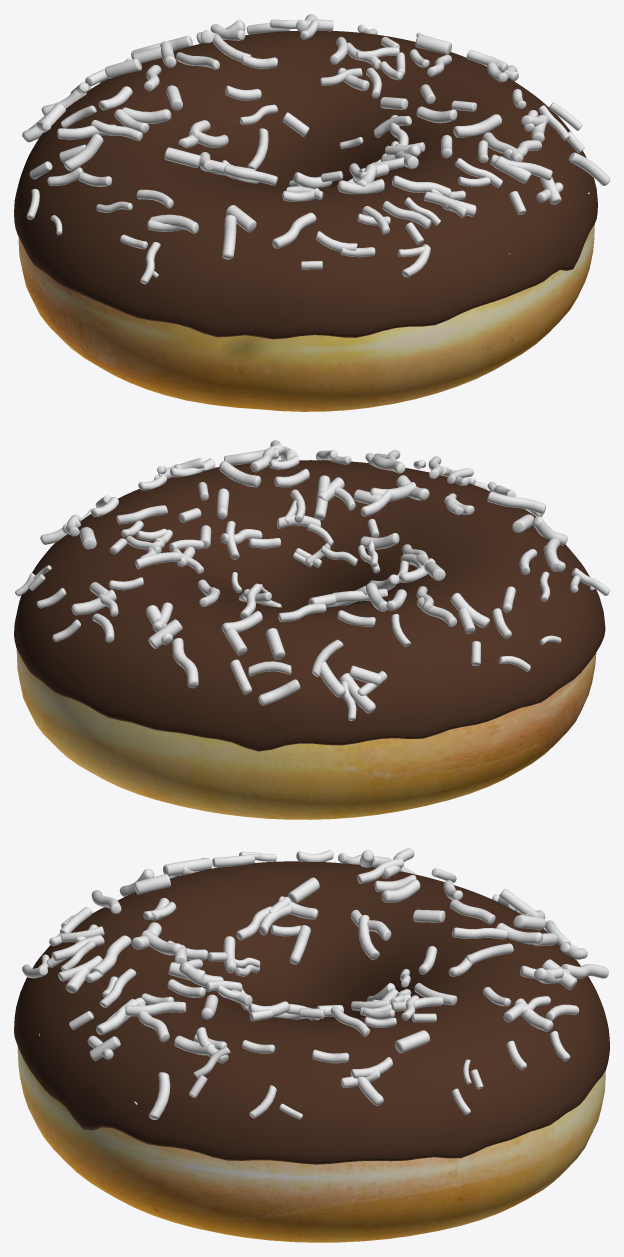
File: dark white vermicheli.glb
The picture shows the model from 3 angles, top to bottom: view 1: azimuth 30°, elevation 25°; view 2: azimuth 150°, elevation 25°; view 3: azimuth 270°, elevation 25°; orthographic projection. The views are drawn at different scales.
Parts seen in each view (by area): view 1: dark, Ver white, Torus; view 2: dark, Torus, Ver white; view 3: dark, Torus, Ver white.
Boxes of the visible parts, <box> form: dark: <box>14,31,597,339</box>; Ver white: <box>22,14,609,284</box>; Torus: <box>18,224,594,411</box>; dark: <box>14,460,605,751</box>; Torus: <box>16,649,596,819</box>; Ver white: <box>15,440,609,720</box>; dark: <box>14,861,609,1164</box>; Torus: <box>17,1046,605,1242</box>; Ver white: <box>22,848,608,1119</box>.
Size of the model in its own units: 0.1988 by 0.0785 by 0.1971.
3 materials, 1 textured.
